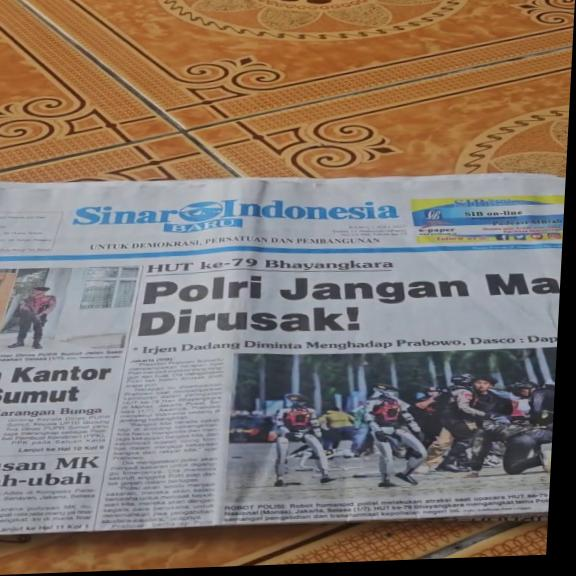Kertas: (0, 168, 554, 529), (0, 348, 133, 528)
